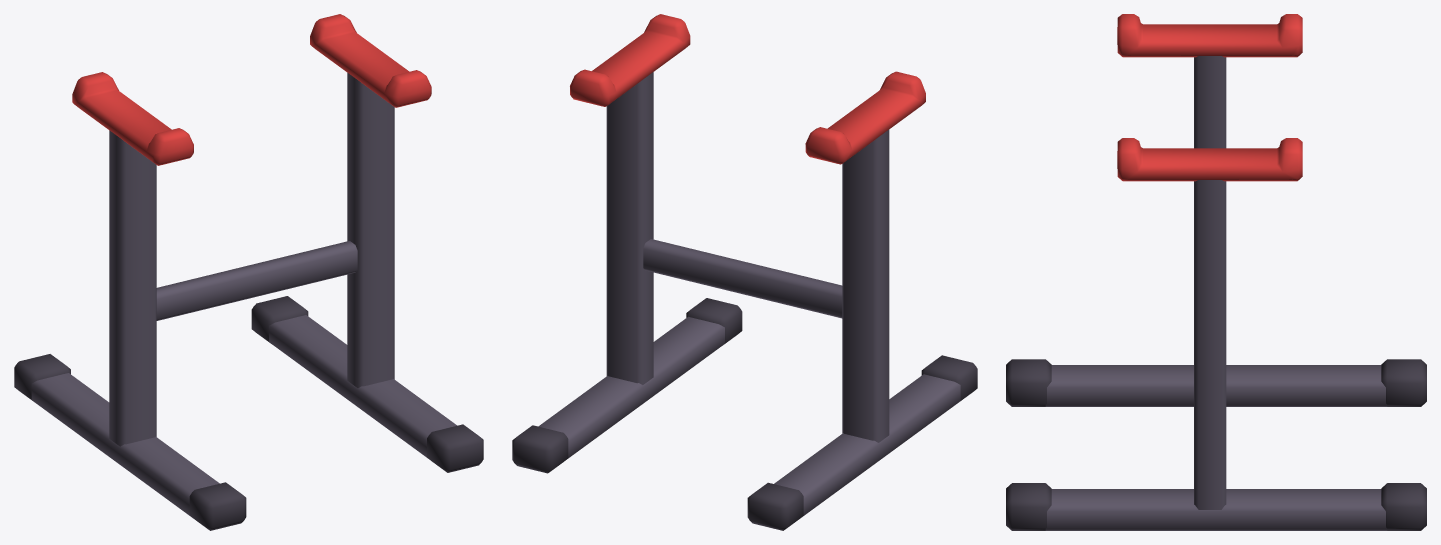
Rendered from Squat_Rack_v01.fbx.
3 renders of one model, left to right at view 1: azimuth 30°, elevation 25°; view 2: azimuth 150°, elevation 25°; view 3: azimuth 270°, elevation 25°, orthographic. The views are drawn at different scales.
Parts seen in each view (by area): view 1: Squat_Rack_v01; view 2: Squat_Rack_v01; view 3: Squat_Rack_v01.
Part boxes in pixels (bbox=[...]): Squat_Rack_v01: bbox=[14, 14, 483, 530]; Squat_Rack_v01: bbox=[512, 14, 977, 530]; Squat_Rack_v01: bbox=[1006, 14, 1426, 530].
Size of the model in its own units: 0.8994 by 1.1 by 1.1.
1 material, 1 textured.
